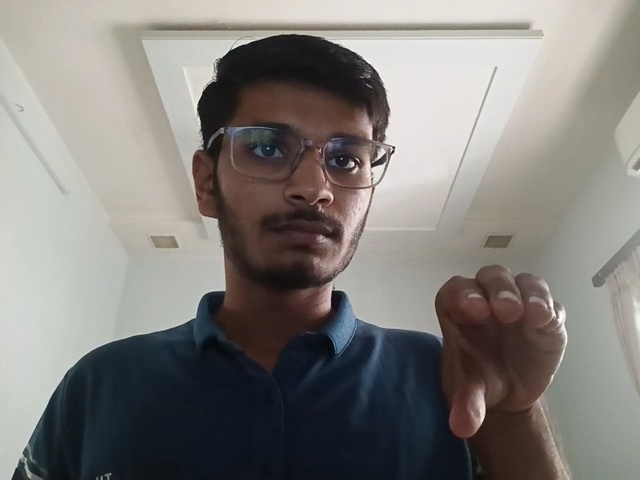No: (431, 262, 582, 443)
